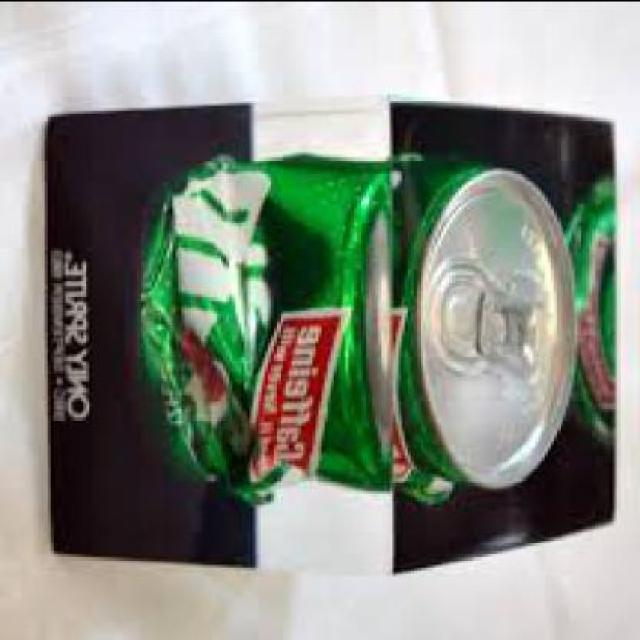METAL: (132, 151, 578, 506)
